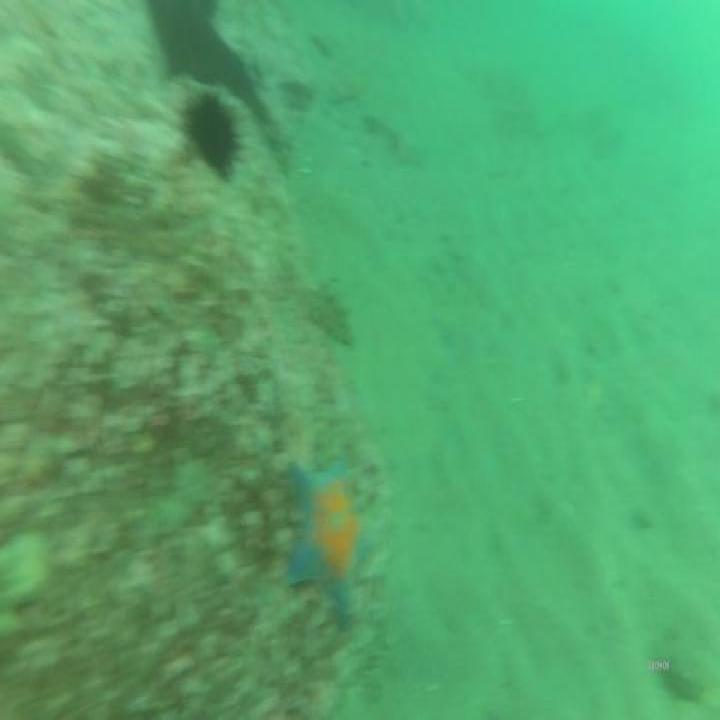echinus: (176, 80, 247, 187)
holothurian: (310, 272, 353, 347)
starfish: (286, 446, 378, 626)
